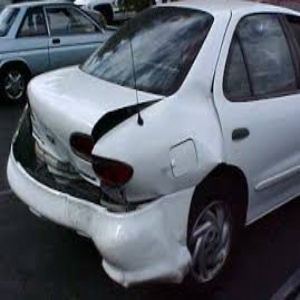bumper: (27, 174, 197, 285)
